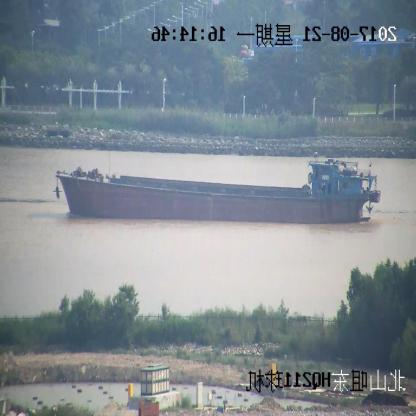Bulk Carrier: (55, 154, 379, 224)
